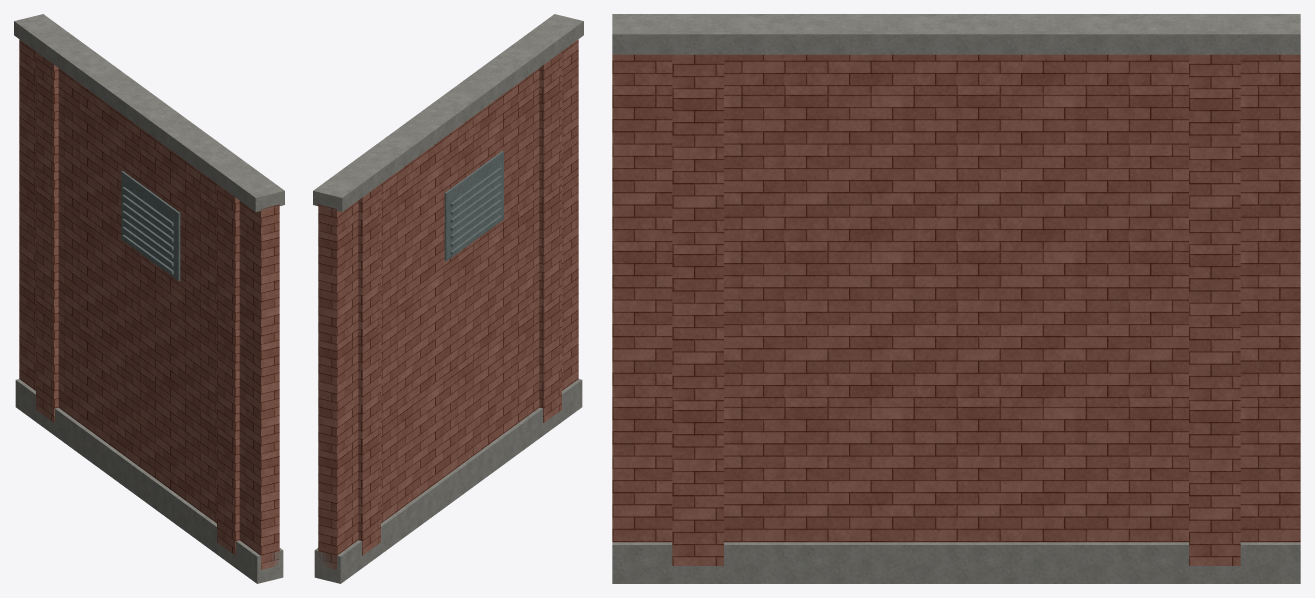
File: PZ_Alley_Wall_BrickRight_4M.glb
3 views of the same model, side by side, from view 1: azimuth 30°, elevation 25°; view 2: azimuth 150°, elevation 25°; view 3: azimuth 270°, elevation 25° (orthographic). The views are drawn at different scales.
Parts seen in each view (by area): view 1: WallR_BrickWall_Main, WallR_Coping, WallR_ReinforcedPier_1, WallR_ReinforcedPier_2, WallR_Footing, WallR_VentFrame; view 2: WallR_BrickWall_Main, WallR_Coping, WallR_ReinforcedPier_2, WallR_ReinforcedPier_1, WallR_Footing, WallR_VentFrame; view 3: WallR_BrickWall_Main, WallR_Coping, WallR_ReinforcedPier_1, WallR_ReinforcedPier_2, WallR_Footing.
Part boxes in pixels (<box>): WallR_BrickWall_Main: <box>19,39,279,569</box>; WallR_Coping: <box>14,14,284,211</box>; WallR_ReinforcedPier_1: <box>217,184,239,555</box>; WallR_ReinforcedPier_2: <box>36,51,58,422</box>; WallR_Footing: <box>15,379,283,583</box>; WallR_VentFrame: <box>121,171,180,281</box>; WallR_BrickWall_Main: <box>318,39,578,569</box>; WallR_Coping: <box>313,14,583,211</box>; WallR_ReinforcedPier_2: <box>358,184,380,555</box>; WallR_ReinforcedPier_1: <box>539,51,561,422</box>; WallR_Footing: <box>314,379,582,583</box>; WallR_VentFrame: <box>444,151,503,261</box>; WallR_BrickWall_Main: <box>612,54,1300,542</box>; WallR_Coping: <box>612,14,1300,54</box>; WallR_ReinforcedPier_1: <box>672,54,723,565</box>; WallR_ReinforcedPier_2: <box>1189,54,1240,565</box>; WallR_Footing: <box>612,542,1300,583</box>.
Size of the model in its own units: 0.29 by 3.53 by 4.
Materials: 3 (3 with a texture image).
